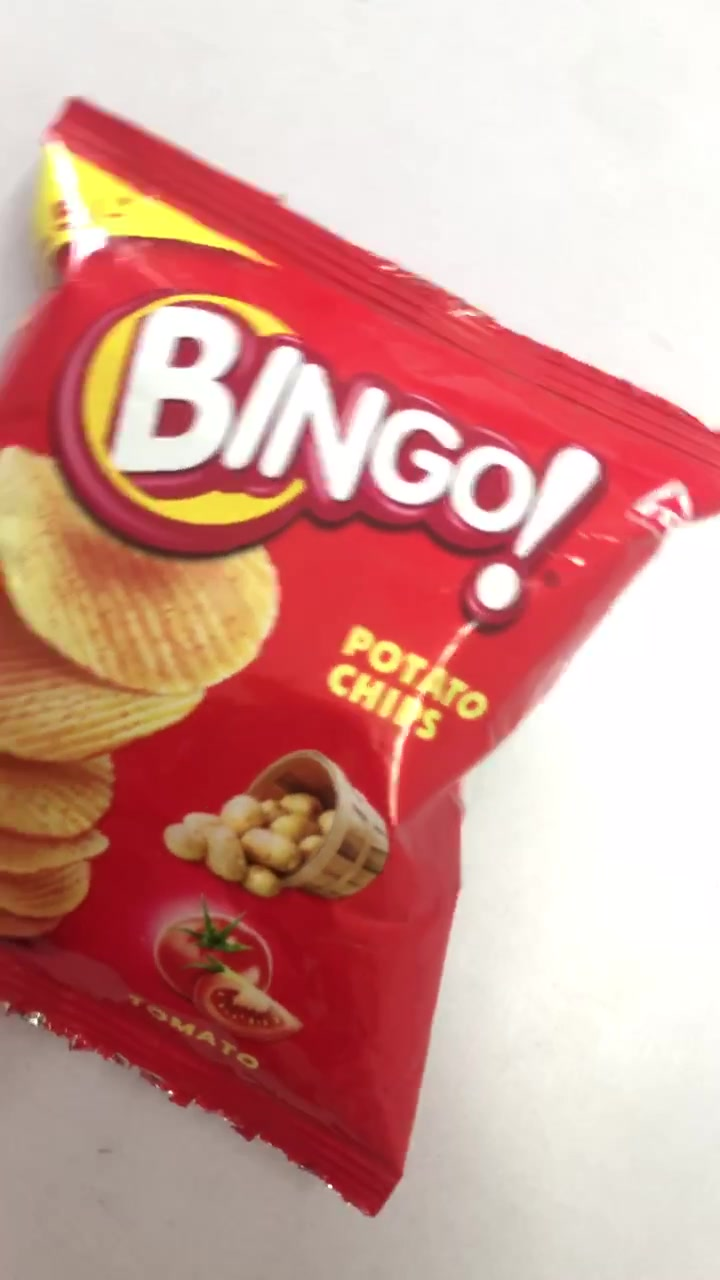Bingo: (9, 110, 720, 1161)
